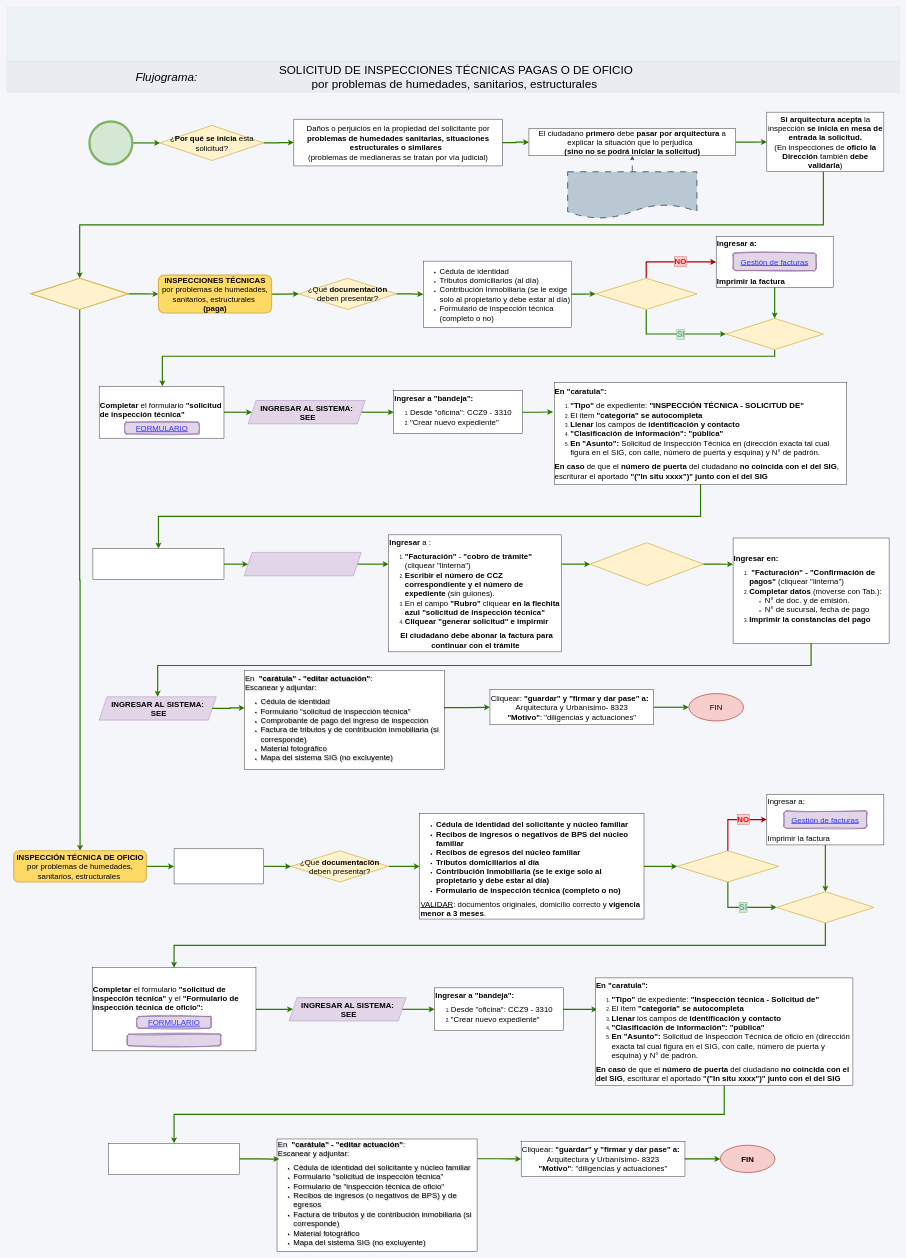
This 906x1258 diagram has some shape labels left out. The shapes that lost their labels are listed below. From the top down, each one's centre as x and y in pixels, then its label:
[110,142]: INICIO
[632,195]: ¿Cómo sacar fecha y hora para un área en especial? (ver procedimiento)
[79,293]: ¿Trámite pago o de oficio?
[646,294]: ¿ Presentan la factura de TGM o Contribución ?
[774,334]: ¿Cual formulario deben completar?
[158,564]: Cliquear "guardar" e imprimir la carátula (copiar número de expediente)
[302,564]: INGRESAR AL SISTEMA: GIC
[646,564]: Ya con el solicitante en CCZ ¿Cómo confirmamos el pago de la factura?
[219,866]: Este trámite está orientado a ciudadanos de bajos recursos
[728,866]: ¿Presentan la factura?
[825,907]: ¿Qué formularios se deben completar?
[174,1040]: DECLARACIÓN JURADA
[174,1158]: Cliquear "guardar" e imprimir la carátula
